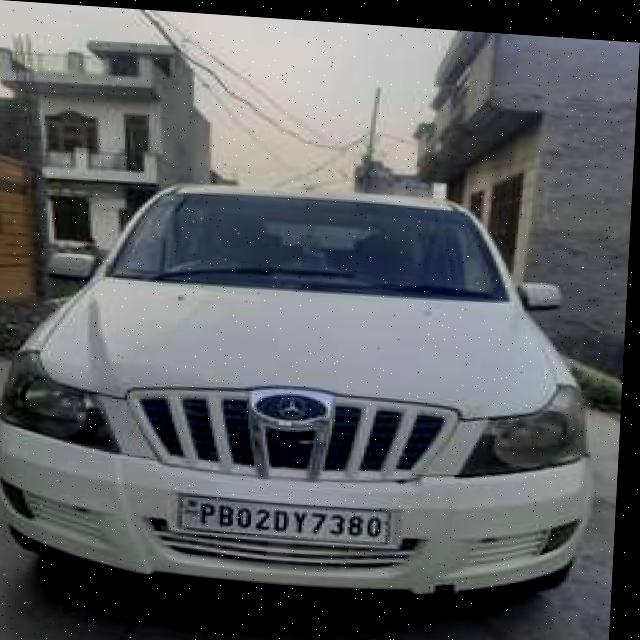plate: (180, 488, 399, 544)
